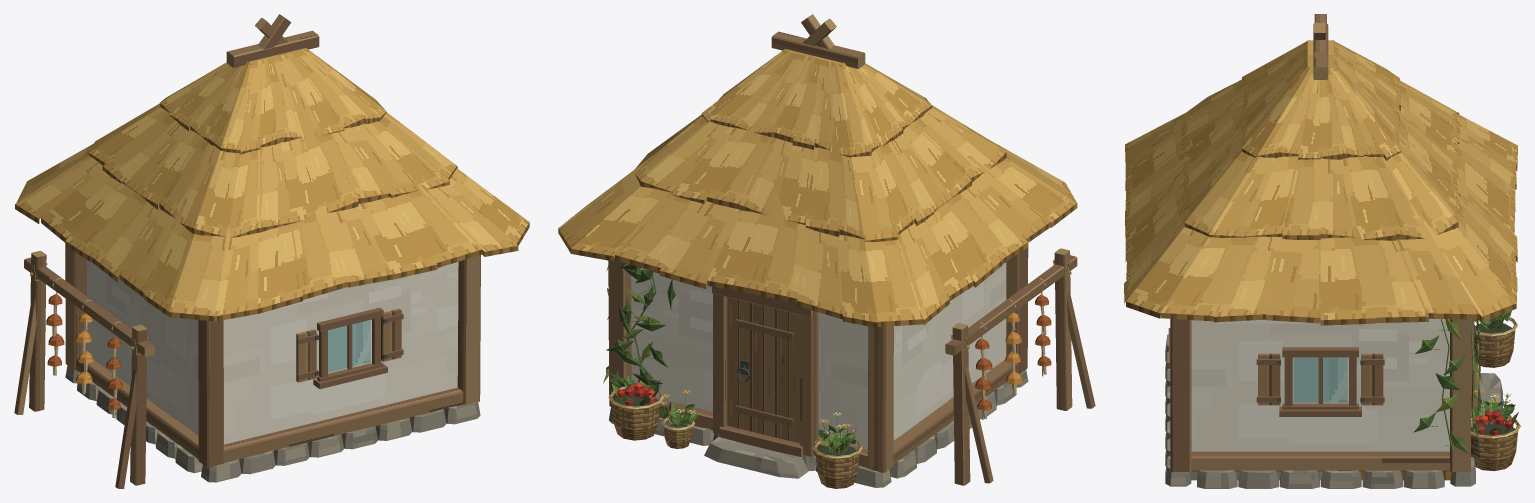
The model's file is gatherer_hut.gltf.
3 views of the same model, side by side, from view 1: azimuth 30°, elevation 25°; view 2: azimuth 150°, elevation 25°; view 3: azimuth 270°, elevation 25° (orthographic). The views are drawn at different scales.
Visible parts, largest first — view 1: Thatched_course_3, Limewashed_plaster_walls, Thatched_course_2, Hand_hewn_corner_posts_and_sill, Thatched_course_1, Timber_drying_frame_and_braces, Fieldstone_plinth, Rear_and_left_glazed_windows, Twelve_drying_forest_mushrooms, Open_plank_shutters_and_hinges, Ridge_cap_and_crossed_roof_finials; view 2: Thatched_course_3, Thatched_course_2, Limewashed_plaster_walls, Thatched_course_1, Hand_hewn_corner_posts_and_sill, Timber_drying_frame_and_braces, Oak_plank_door, Door_posts_lintel_and_threshold, Fieldstone_plinth, Three_woven_willow_baskets, Clustered_lobed_ivy_leaves, Ridge_cap_and_crossed_roof_finials (+4 smaller); view 3: Thatched_course_3, Thatched_course_2, Limewashed_plaster_walls, Thatched_course_1, Hand_hewn_corner_posts_and_sill, Fieldstone_plinth, Rear_and_left_glazed_windows, Three_woven_willow_baskets, Open_plank_shutters_and_hinges, Clustered_lobed_ivy_leaves, Basket_herbs_and_leafy_greens, Ridge_cap_and_crossed_roof_finials (+2 smaller).
Part boxes in pixels (x1,y1,x2,y2): Thatched_course_3: [15, 144, 529, 321]; Limewashed_plaster_walls: [87, 257, 458, 444]; Thatched_course_2: [86, 103, 457, 237]; Hand_hewn_corner_posts_and_sill: [65, 246, 480, 467]; Thatched_course_1: [160, 48, 386, 154]; Timber_drying_frame_and_braces: [14, 251, 154, 488]; Fieldstone_plinth: [65, 365, 480, 482]; Rear_and_left_glazed_windows: [313, 307, 387, 389]; Twelve_drying_forest_mushrooms: [46, 294, 122, 417]; Open_plank_shutters_and_hinges: [296, 308, 403, 382]; Ridge_cap_and_crossed_roof_finials: [226, 14, 319, 67]; Thatched_course_3: [558, 139, 1077, 327]; Thatched_course_2: [634, 105, 1006, 242]; Limewashed_plaster_walls: [631, 262, 1006, 449]; Thatched_course_1: [701, 49, 932, 157]; Hand_hewn_corner_posts_and_sill: [608, 247, 1028, 472]; Timber_drying_frame_and_braces: [945, 248, 1095, 485]; Oak_plank_door: [727, 297, 799, 443]; Door_posts_lintel_and_threshold: [712, 286, 818, 457]; Fieldstone_plinth: [609, 369, 1028, 487]; Three_woven_willow_baskets: [608, 386, 862, 488]; Clustered_lobed_ivy_leaves: [603, 262, 675, 398]; Ridge_cap_and_crossed_roof_finials: [771, 14, 865, 68]; Thatched_course_3: [1124, 110, 1517, 325]; Thatched_course_2: [1181, 79, 1459, 240]; Limewashed_plaster_walls: [1191, 318, 1449, 451]; Thatched_course_1: [1240, 40, 1400, 160]; Hand_hewn_corner_posts_and_sill: [1170, 319, 1470, 471]; Fieldstone_plinth: [1165, 334, 1502, 488]; Rear_and_left_glazed_windows: [1168, 328, 1361, 416]; Three_woven_willow_baskets: [1471, 317, 1520, 471]; Open_plank_shutters_and_hinges: [1256, 353, 1384, 405]; Clustered_lobed_ivy_leaves: [1413, 319, 1480, 453]; Basket_herbs_and_leafy_greens: [1471, 310, 1518, 435]; Ridge_cap_and_crossed_roof_finials: [1313, 14, 1328, 79].
Size of the model in its own units: 5.81 by 5.31 by 4.79.
1 material, 1 textured.
